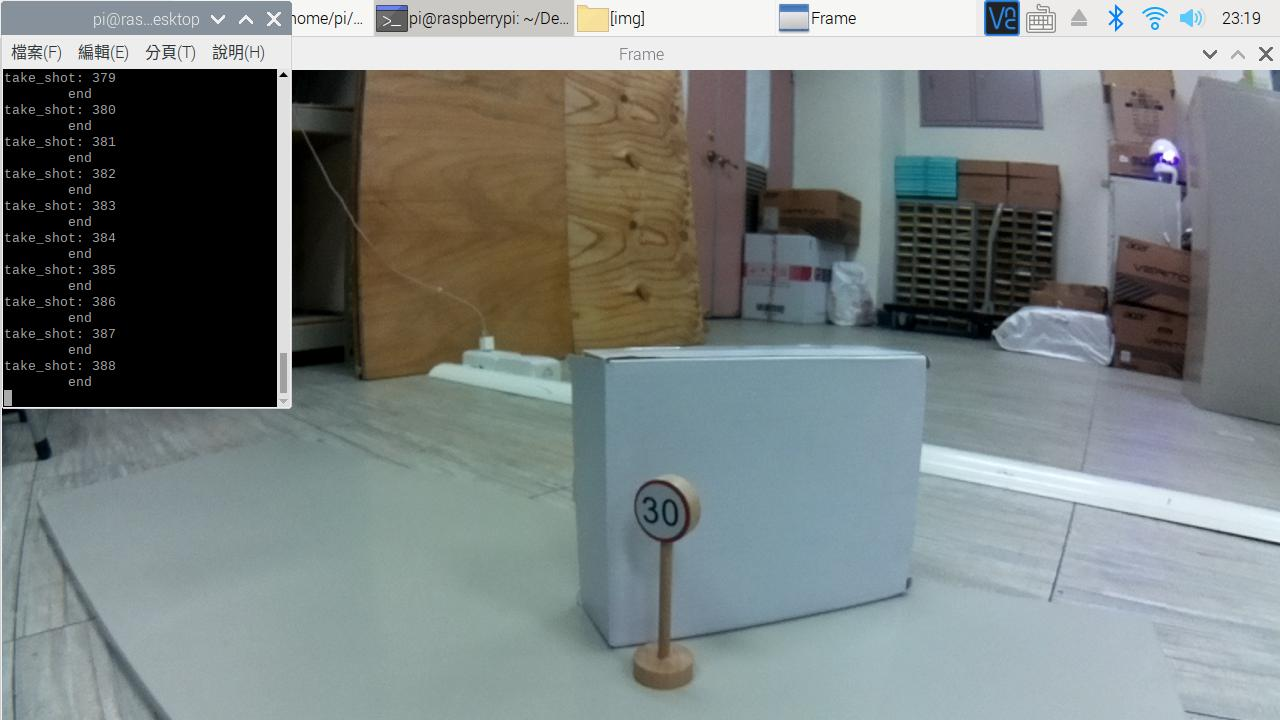Speed30: (621, 465, 714, 564)
